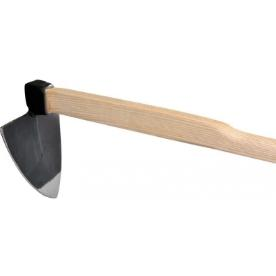HOUE: (0, 82, 276, 221)
